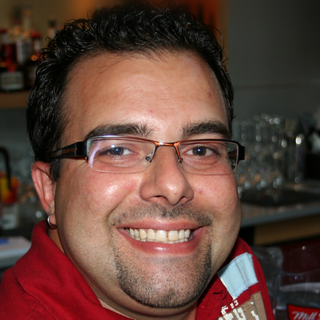eye: (182, 140, 224, 165), (97, 141, 142, 163)
